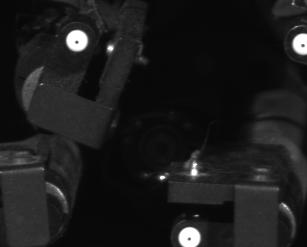fiber: (64, 28, 92, 54), (175, 225, 208, 247), (290, 30, 307, 60)
